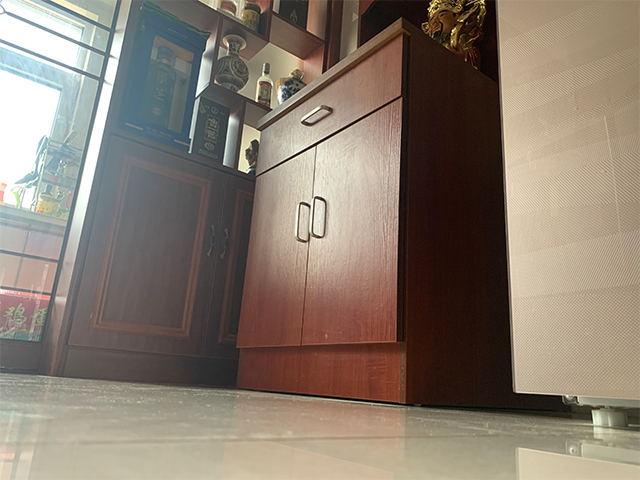cabinet: (233, 22, 501, 415), (52, 127, 236, 391)
